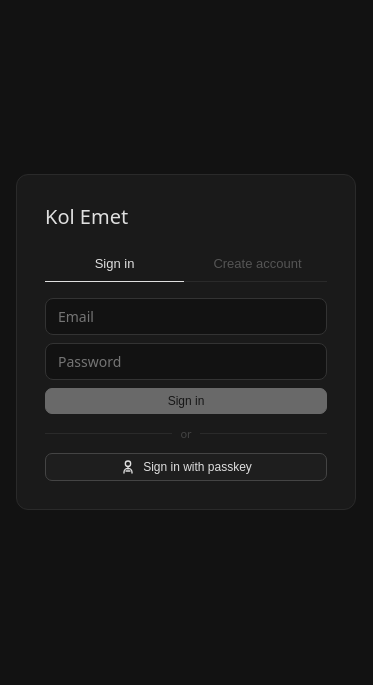
Test: LoginView template picker › create-account mode lists the fetched templates, name and description, under "Start with"
The width and height of the screenshot is (373, 685).
Click the button "Create account" at (258, 266), box [188, 250, 327, 281]
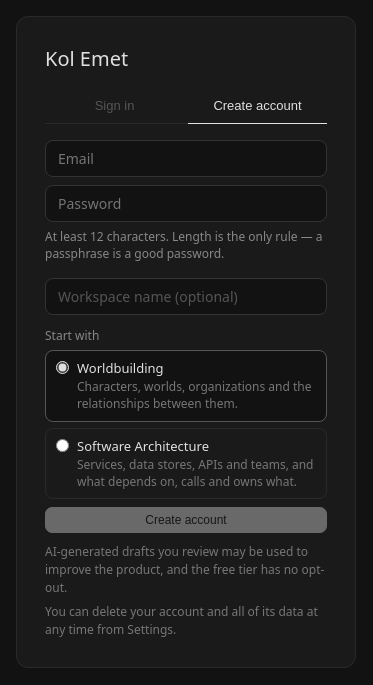
Expected: the text "Start with" is shown, [45, 327, 99, 344]
Expected: the label that starts with "Worldbuilding" is shown, [77, 359, 164, 377]
Expected: the label that starts with "Worldbuilding" shows "Characters, worlds, organizations and the relationships between them.", [77, 378, 312, 412]
